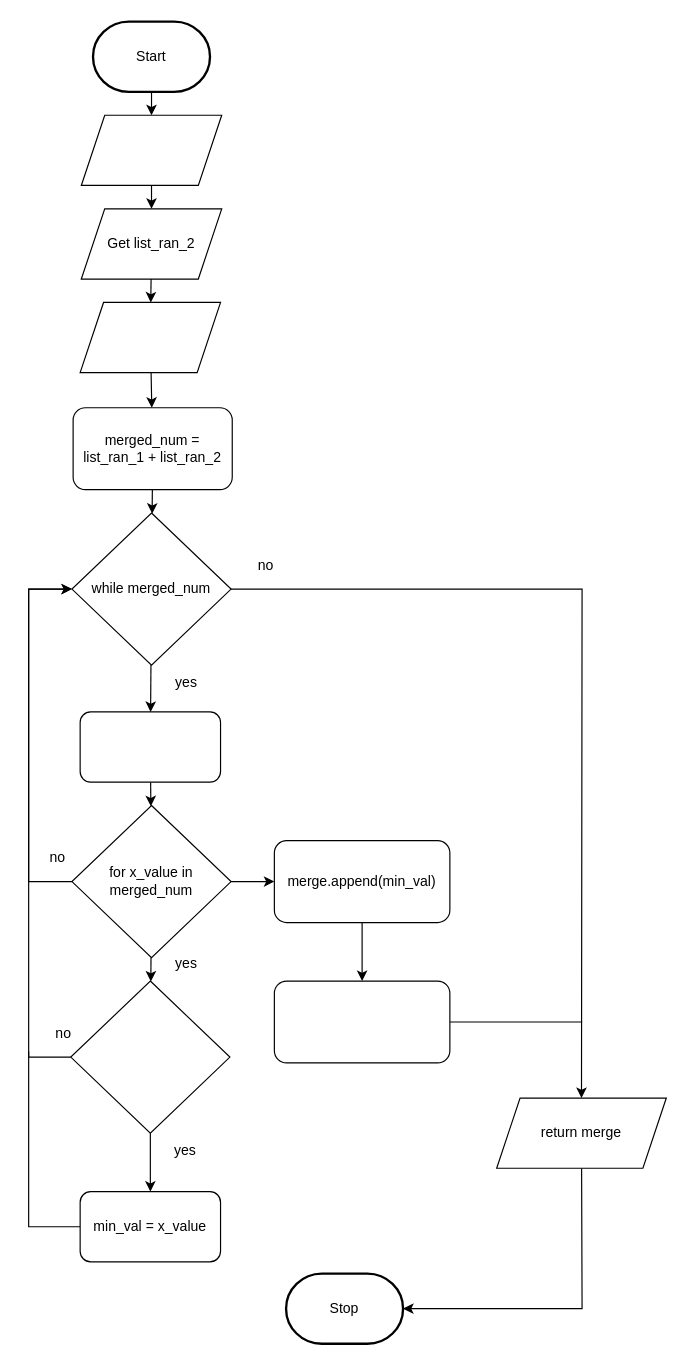
This 687x1364 diagram has some shape labels left out. The centre of each missing label's shape, as x and y in pixels:
Get list_ran_1: the point at 151,149
if x_value < min_val: the point at 150,1056
merge = []: the point at 150,337
merged_num.remove (min_val): the point at 361,1021
min_val = merged_num: the point at 150,746
